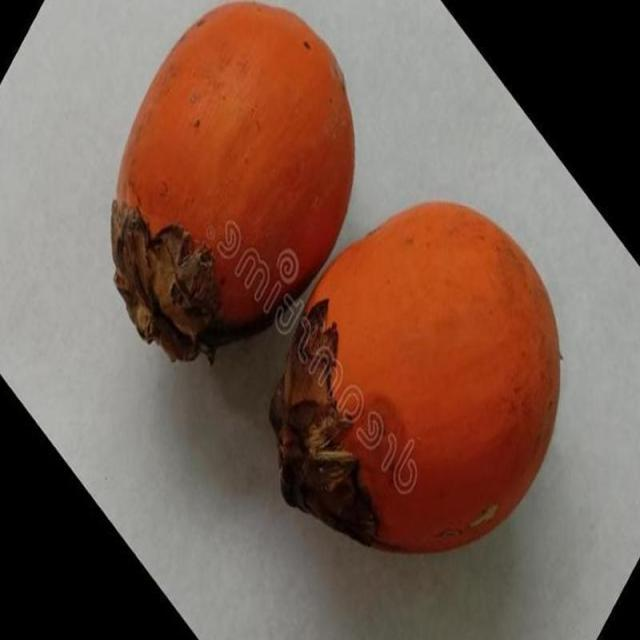good: (270, 201, 563, 556), (110, 2, 356, 365)
